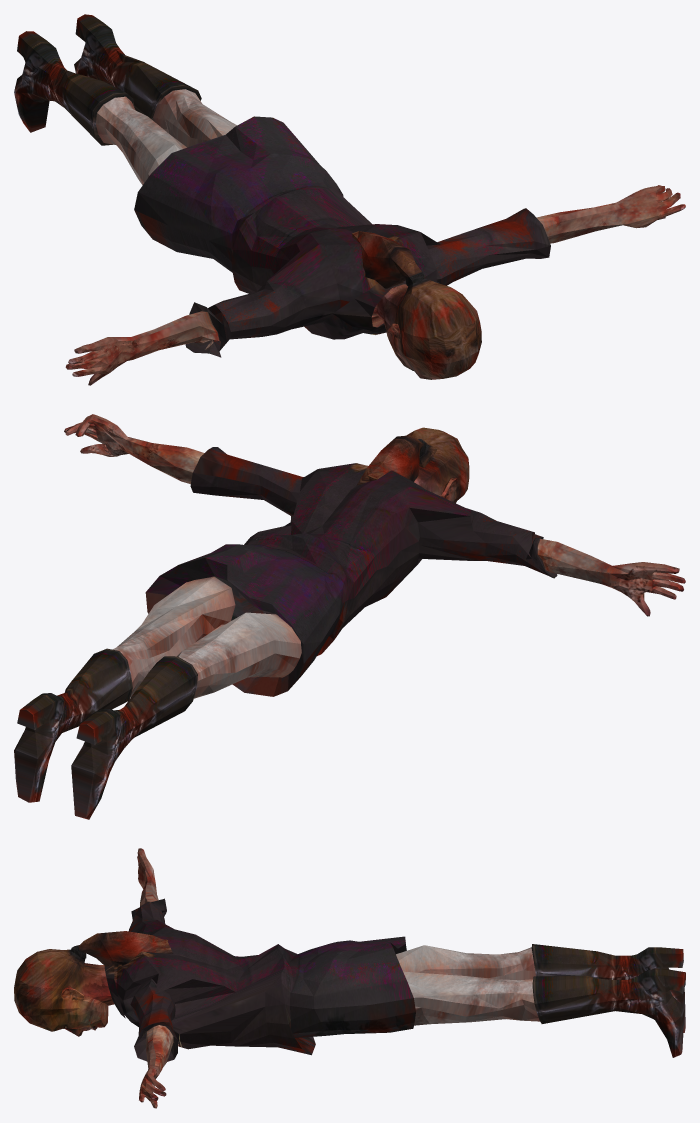
The model's file is ponchocorpgirlzombie_wtf.obj.
The picture shows the model from 3 angles, top to bottom: view 1: azimuth 30°, elevation 25°; view 2: azimuth 150°, elevation 25°; view 3: azimuth 270°, elevation 25°; orthographic projection. The views are drawn at different scales.
Visible parts, largest first — view 1: group1; view 2: group1; view 3: group1.
Boxes of the visible parts, left/top/right/bottom form: group1: left=14, top=14, right=685, bottom=385; group1: left=14, top=414, right=685, bottom=819; group1: left=14, top=848, right=685, bottom=1108.
Bounding box in the file's own units: 588 × 123 × 660.
